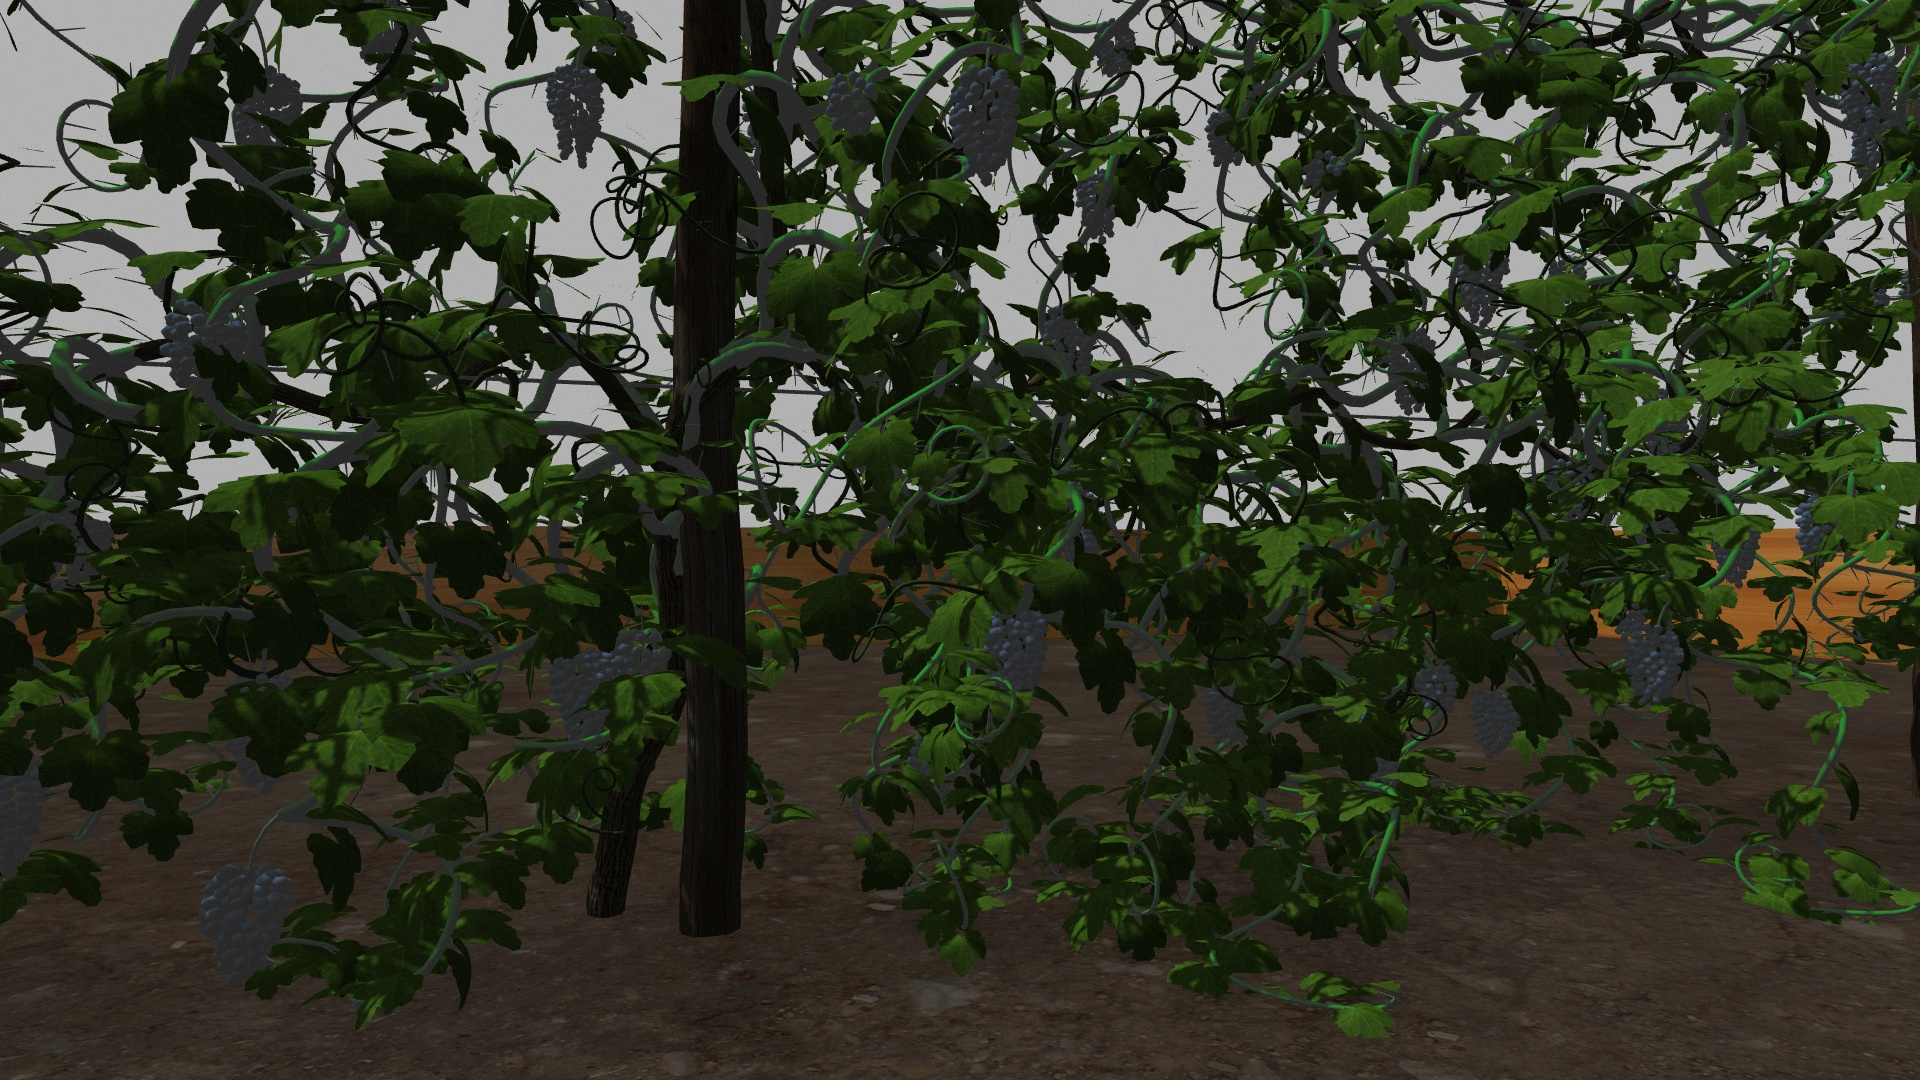grape: (157, 284, 272, 425), (196, 865, 299, 989), (945, 58, 1022, 189), (542, 63, 607, 173), (229, 58, 305, 149), (549, 651, 608, 753), (986, 609, 1052, 694), (1625, 626, 1687, 711), (1455, 236, 1507, 328), (1044, 299, 1100, 384), (1389, 328, 1439, 413), (824, 71, 881, 141), (1469, 694, 1526, 764), (1841, 55, 1898, 125), (1793, 496, 1840, 571), (611, 629, 671, 684), (1071, 170, 1120, 239), (1712, 522, 1760, 591), (1203, 688, 1251, 748), (1414, 658, 1461, 719), (1095, 18, 1139, 79), (1846, 123, 1882, 179), (1302, 150, 1346, 191)
